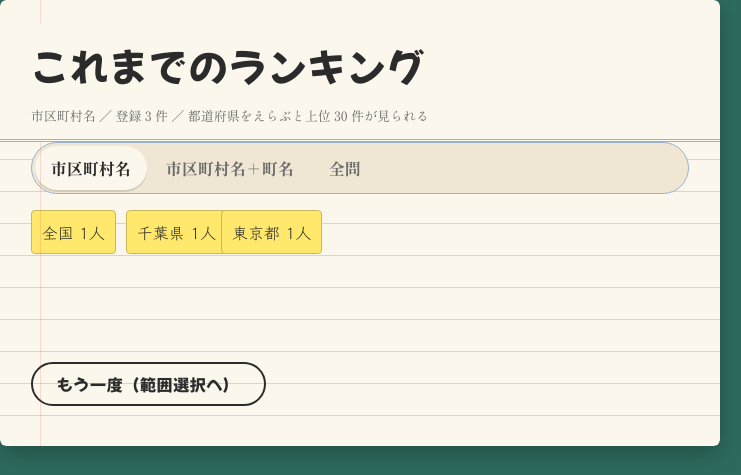
トップ（都道府県ごとの人数） › difficult に切り替えると集計と色分けが切り替わる
Expected: the button with aria-label "千葉県 1人が回答（市区町村名）" is shown, x1=126 y1=210 x2=227 y2=254
Click the button "市区町村名＋町名" at x=230, y=168, box x1=150 y1=146 x2=310 y2=190
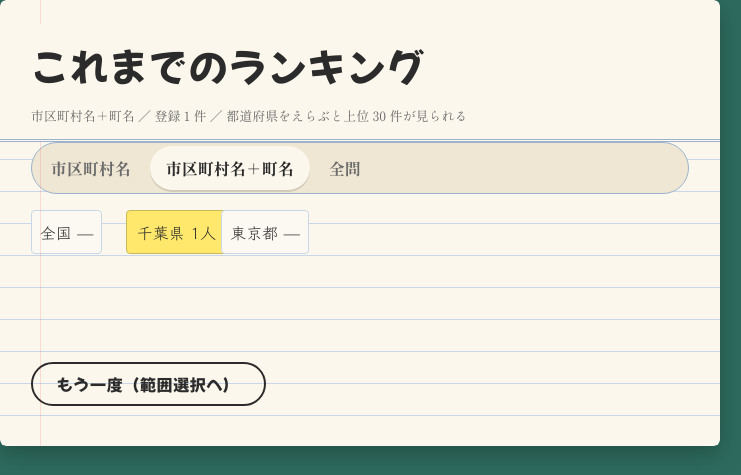
Result: the button with aria-label "東京都 0人が回答（市区町村名＋町名）" is disabled at x1=221 y1=210 x2=309 y2=254
Result: the button with aria-label "全国 0人が回答（市区町村名＋町名）" is disabled at x1=31 y1=210 x2=102 y2=254
Result: the text "市区町村名＋町名 ／ 登録 1 件 ／ 都道府県をえらぶと上位 30 件が見られる" is shown at x1=31 y1=106 x2=468 y2=125
